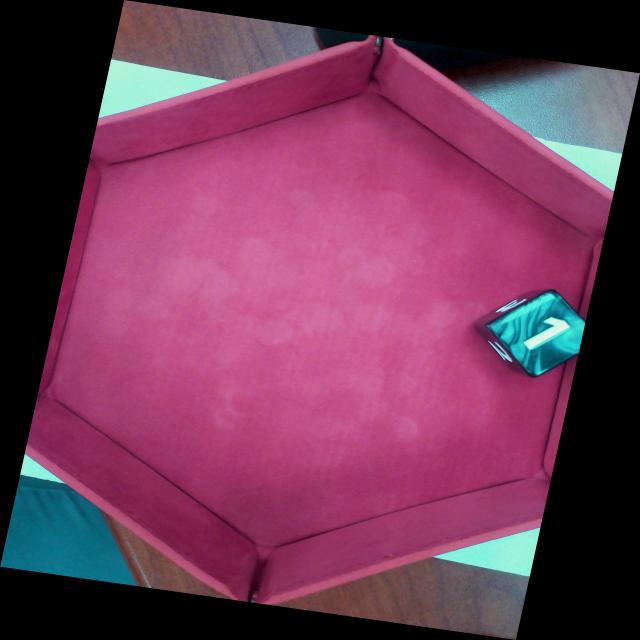dice: (484, 287, 607, 380)
